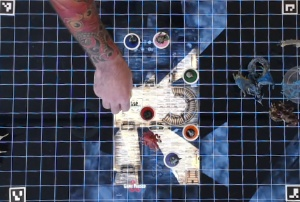blue: (123, 32, 140, 51)
green: (182, 67, 198, 83)
orange: (181, 123, 200, 140)
pink: (151, 29, 170, 50)
red: (138, 105, 154, 121)
violet: (163, 150, 181, 170)
